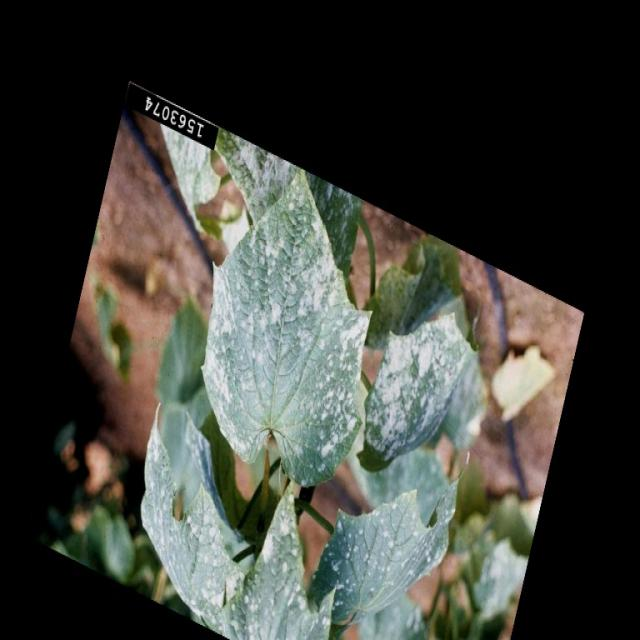Powdery_Mildew: (205, 172, 373, 494), (133, 420, 321, 640), (305, 466, 463, 640), (365, 311, 492, 467)
